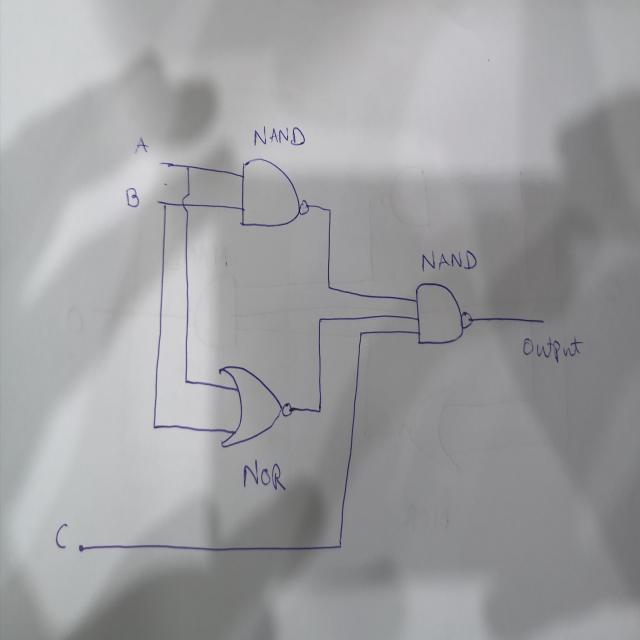crossover: (180, 191, 190, 215)
junction: (314, 399, 324, 418), (335, 538, 345, 554), (324, 279, 332, 294), (324, 202, 333, 215), (357, 325, 364, 340), (182, 375, 190, 387), (184, 161, 191, 172), (162, 198, 168, 210), (316, 314, 323, 324), (151, 421, 157, 431)
terminal: (76, 541, 86, 555), (157, 157, 166, 170), (538, 315, 546, 326), (154, 197, 160, 206)
text: (522, 332, 582, 364), (242, 460, 286, 494), (422, 248, 478, 274), (252, 124, 306, 148), (54, 519, 69, 550), (124, 186, 140, 208), (134, 134, 148, 155)
